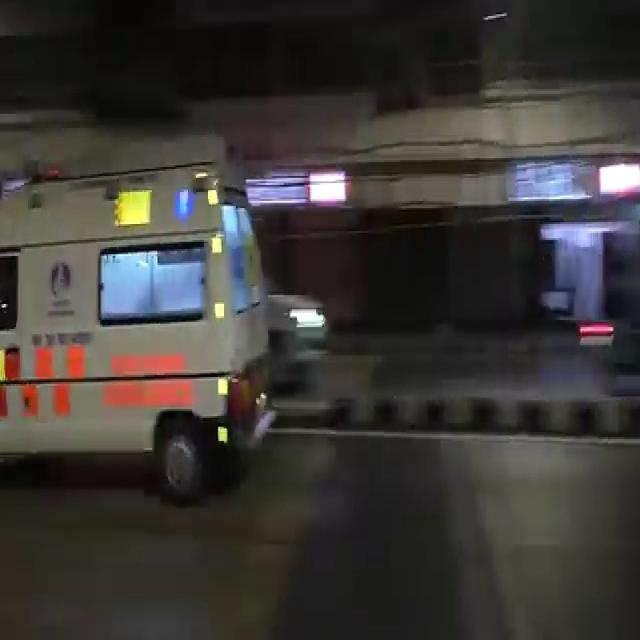ambulance: (0, 188, 286, 475)
